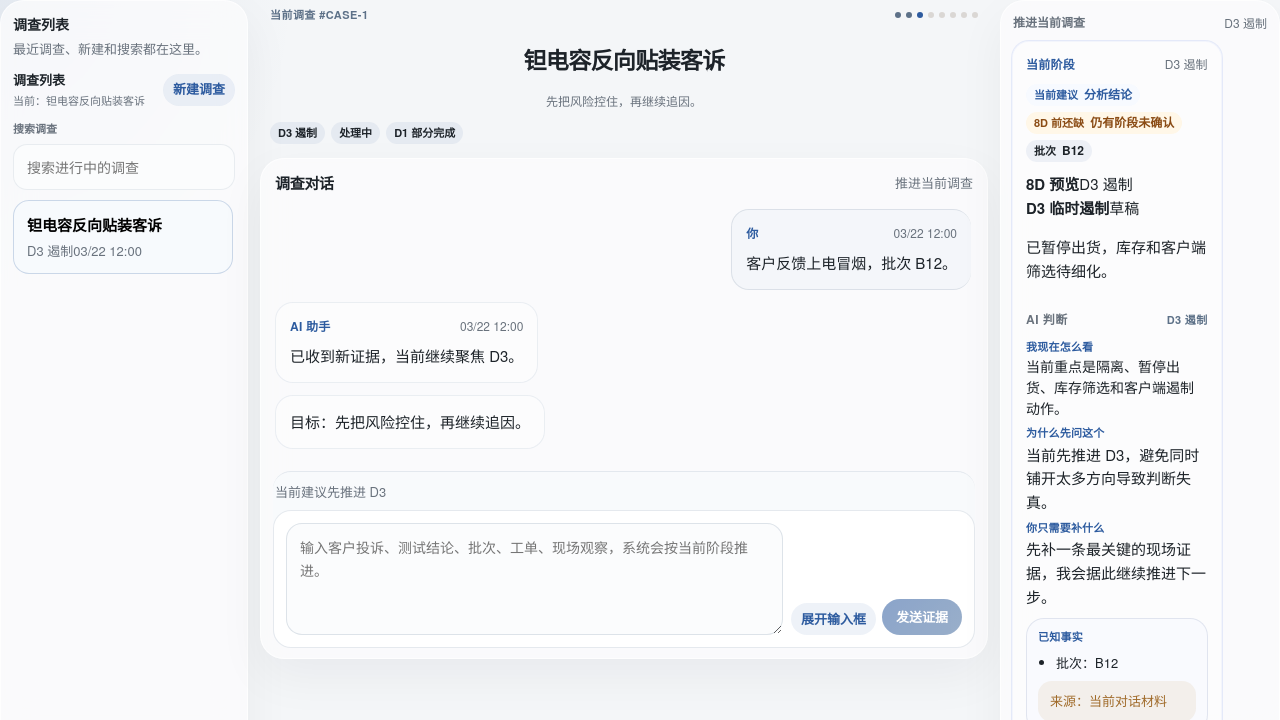
Workspace › also asks for confirmation when meeting notes look like a different case
Check: the heading "钽电容反向贴装客诉" is shown, box [270,33,978,83]
Type "会议纪要：客户华星科技今天会后确认，机种 MCU-900 在 B19 批次已有 3 台板卡上电冒烟，现场先停线并要求 24 小时内回复遏制措施。" into the text box named "证据输入框" at coordinates (534, 579), box [286,523,783,635]
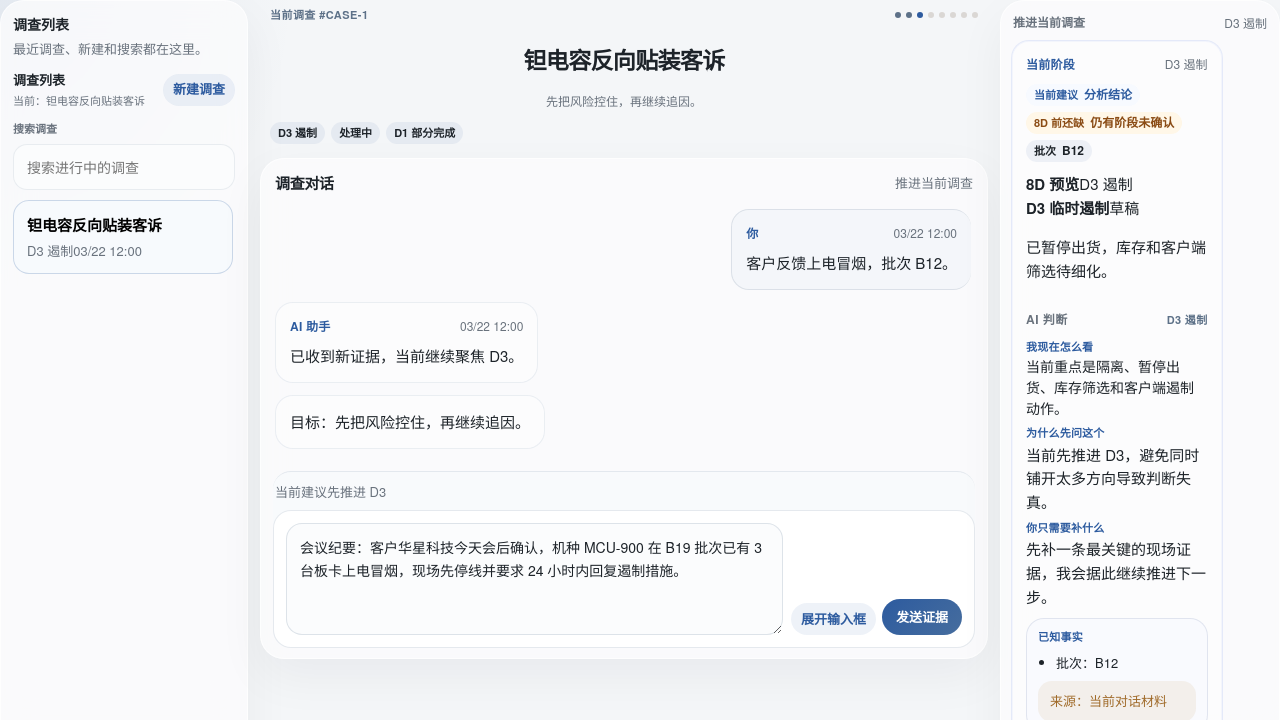
Click the button "发送证据" at coordinates (922, 617), box [882,599,962,635]
(page scrolled)
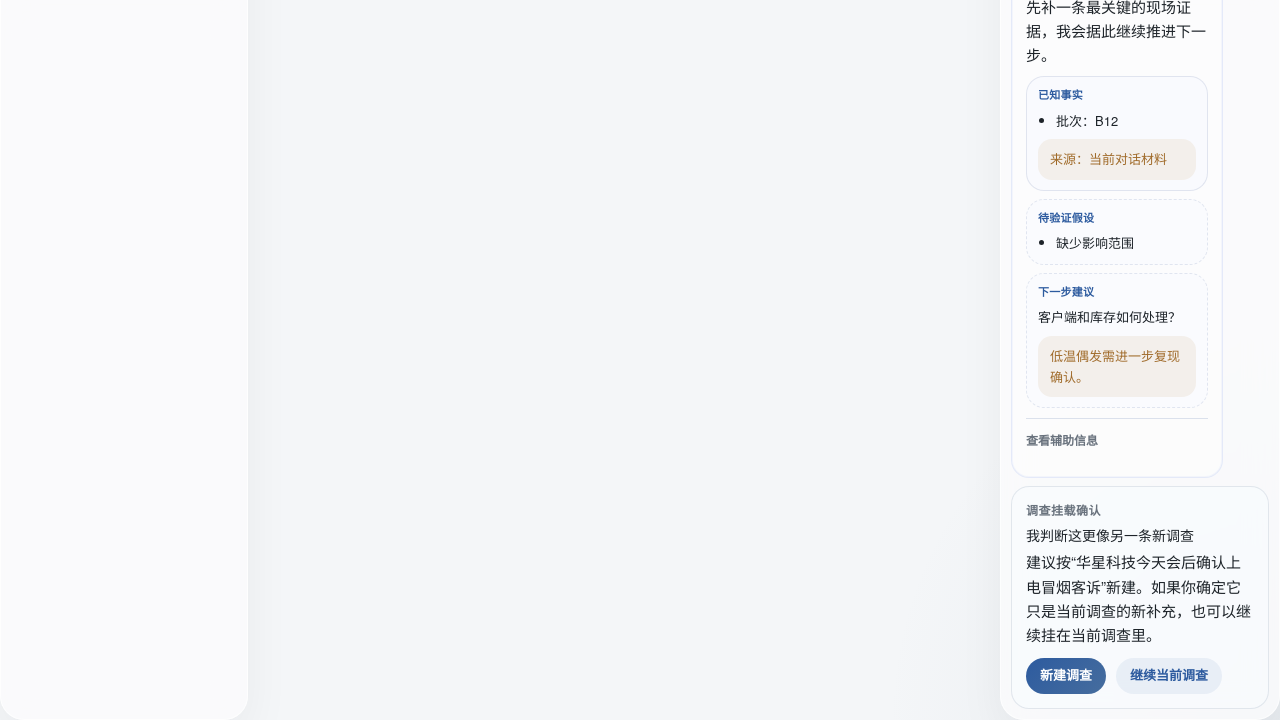
Check: the text "我判断这更像另一条新调查" is shown, box [1026,525,1194,545]
